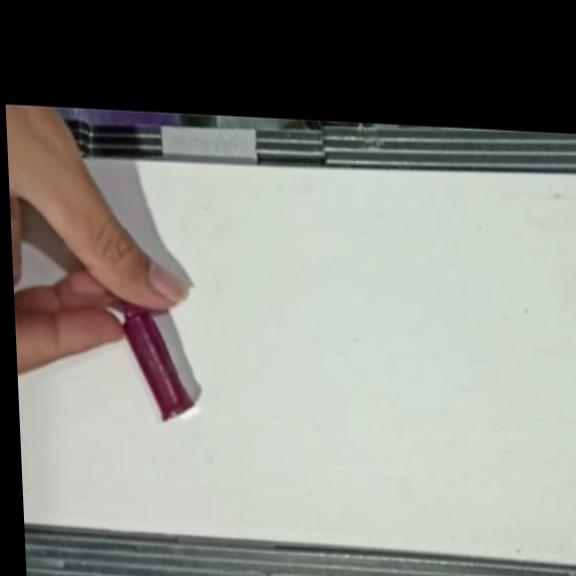Plastik: (116, 292, 197, 423)
